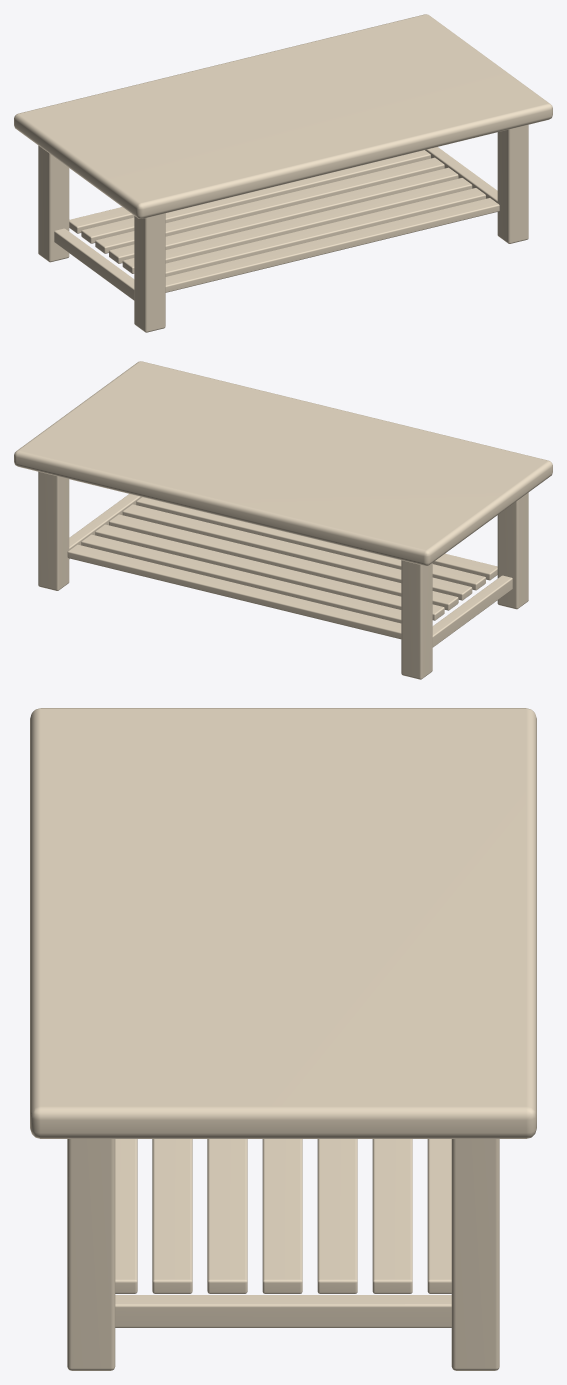
The model's file is coffee_table.glb.
The picture shows the model from 3 angles, top to bottom: view 1: azimuth 30°, elevation 25°; view 2: azimuth 150°, elevation 25°; view 3: azimuth 270°, elevation 25°; orthographic projection. The views are drawn at different scales.
Visible parts, largest first — view 1: top, slat0, slat1, slat4, slat3, slat2, leg-1-1, leg1-1, slat5, leg-11, rail-1, rail1 (+1 smaller); view 2: top, slat6, slat5, slat2, slat3, slat4, leg-11, leg11, slat1, leg-1-1, rail-1, rail1 (+1 smaller); view 3: top, leg1-1, leg11, rail1, slat1, slat2, slat3, slat4, slat5, slat6, slat0.
Part boxes in pixels (<box>): top: <box>14,14,552,218</box>; slat0: <box>165,198,499,292</box>; slat1: <box>165,188,485,276</box>; slat4: <box>95,157,444,253</box>; slat3: <box>109,167,458,263</box>; slat2: <box>122,178,472,273</box>; leg-1-1: <box>134,213,165,332</box>; leg1-1: <box>497,124,528,243</box>; slat5: <box>81,150,430,243</box>; leg-11: <box>38,145,69,262</box>; rail-1: <box>54,228,134,300</box>; rail1: <box>425,147,497,202</box>; top: <box>14,361,552,565</box>; slat6: <box>67,544,401,639</box>; slat5: <box>81,534,401,623</box>; slat2: <box>122,504,472,600</box>; slat3: <box>109,514,458,610</box>; slat4: <box>95,524,444,620</box>; leg-11: <box>401,560,432,679</box>; leg11: <box>38,471,69,590</box>; slat1: <box>136,497,485,590</box>; leg-1-1: <box>497,492,528,609</box>; rail-1: <box>432,575,512,647</box>; rail1: <box>69,494,141,558</box>; top: <box>30,708,536,1138</box>; leg1-1: <box>67,1139,115,1370</box>; leg11: <box>451,1139,499,1370</box>; rail1: <box>115,1295,451,1327</box>; slat1: <box>152,1139,192,1293</box>; slat2: <box>207,1139,247,1293</box>; slat3: <box>262,1139,302,1293</box>; slat4: <box>317,1139,357,1293</box>; slat5: <box>372,1139,412,1293</box>; slat6: <box>427,1139,451,1293</box>; slat0: <box>115,1139,137,1293</box>.
Bounding box in the file's own units: 1.1 × 0.35 × 0.58.
